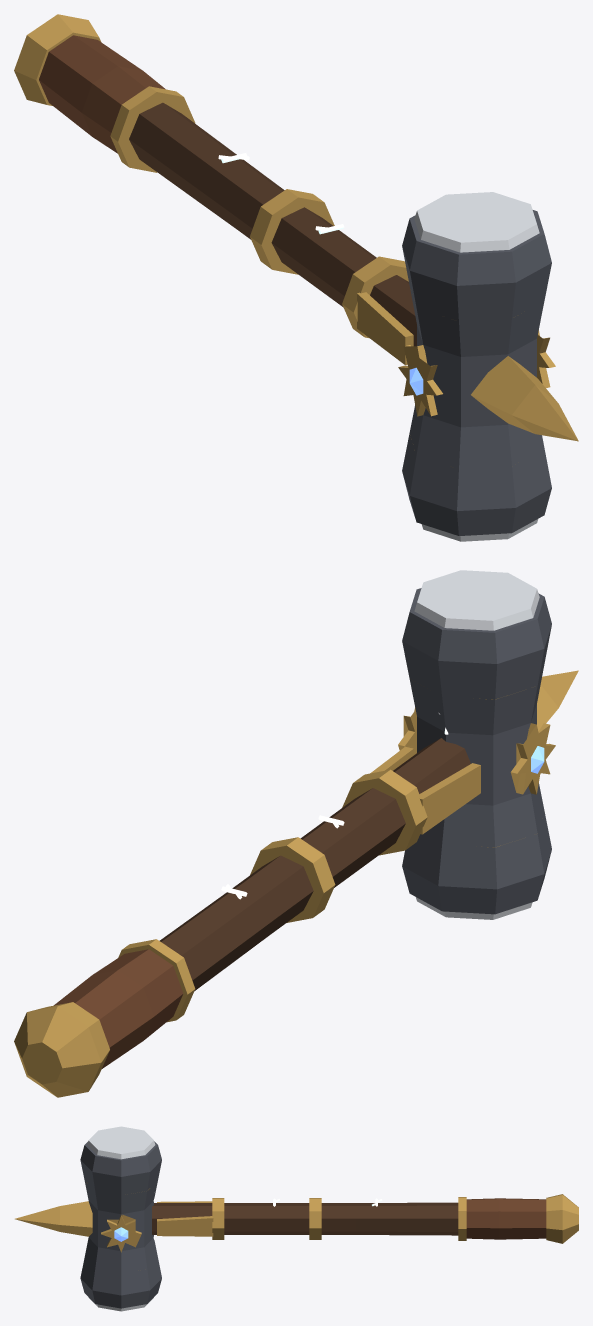
Rendered from Weapon_GildedHammer.glb.
3 renders of one model, top to bottom at view 1: azimuth 30°, elevation 25°; view 2: azimuth 150°, elevation 25°; view 3: azimuth 270°, elevation 25°, orthographic. The views are drawn at different scales.
Parts seen in each view (by area): view 1: WpnMetal__WpnMetal, WpnTrim__WpnTrim, WpnWoodDark__WpnWoodDark, WpnGrip__WpnGrip, WpnEdge__WpnEdge; view 2: WpnMetal__WpnMetal, WpnTrim__WpnTrim, WpnWoodDark__WpnWoodDark, WpnGrip__WpnGrip, WpnEdge__WpnEdge; view 3: WpnMetal__WpnMetal, WpnWoodDark__WpnWoodDark, WpnTrim__WpnTrim, WpnGrip__WpnGrip, WpnEdge__WpnEdge.
Part boxes in pixels (x1,y1,x2,y2): WpnMetal__WpnMetal: (402,210,551,535); WpnTrim__WpnTrim: (14,14,578,441); WpnWoodDark__WpnWoodDark: (129,102,416,346); WpnGrip__WpnGrip: (39,35,165,153); WpnEdge__WpnEdge: (414,192,539,541); WpnMetal__WpnMetal: (402,588,551,914); WpnTrim__WpnTrim: (14,670,578,1097); WpnWoodDark__WpnWoodDark: (159,738,470,990); WpnGrip__WpnGrip: (54,949,183,1068); WpnEdge__WpnEdge: (414,570,539,919); WpnMetal__WpnMetal: (80,1141,161,1308); WpnWoodDark__WpnWoodDark: (152,1202,458,1235); WpnTrim__WpnTrim: (15,1183,578,1252); WpnGrip__WpnGrip: (466,1198,546,1239); WpnEdge__WpnEdge: (87,1126,155,1311).
Bounding box in the file's own units: 0.008 × 0.017 × 0.0553.
